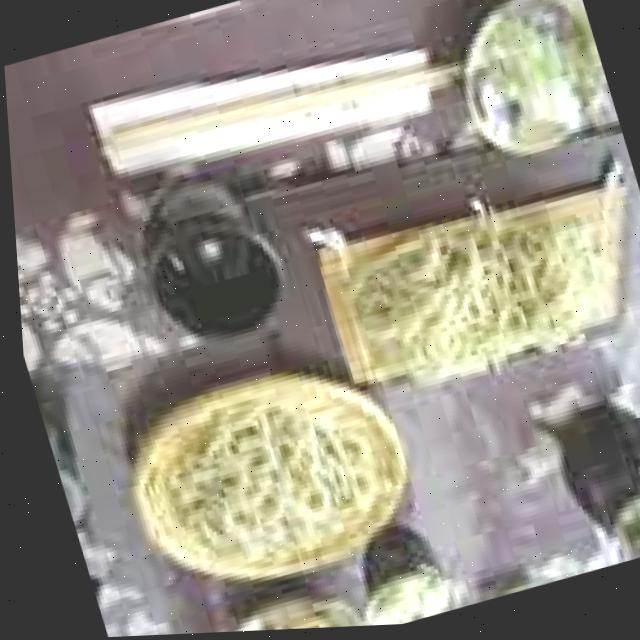面条主食: (87, 334, 437, 638)
